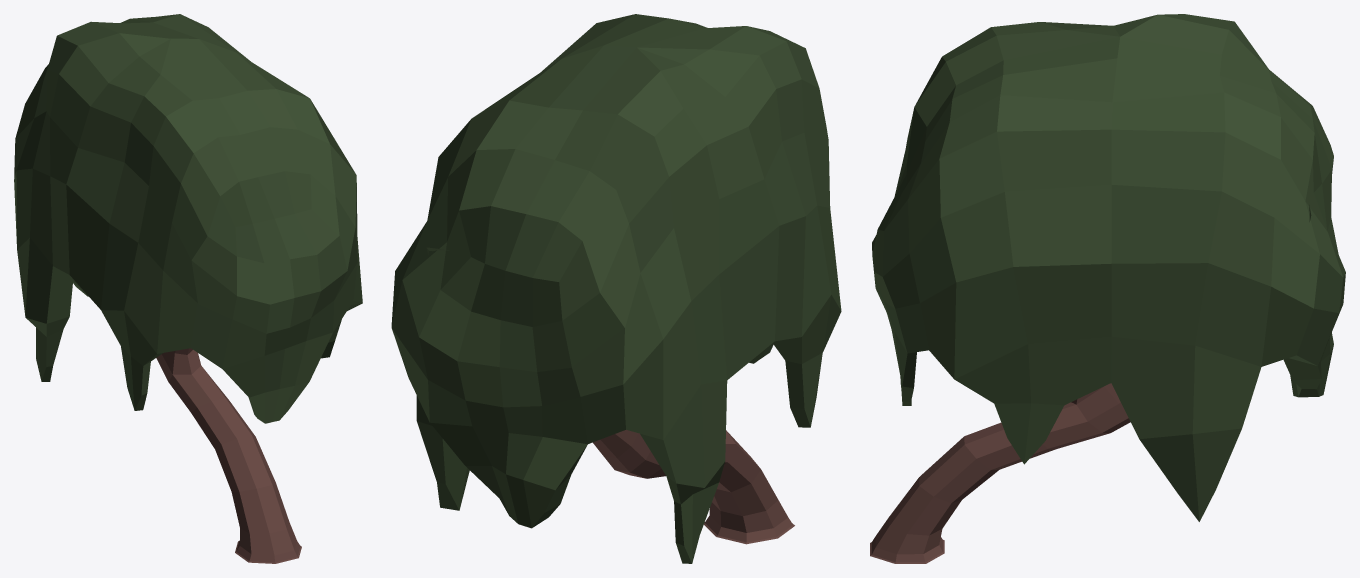
File: Willow_3.gltf
3 views of the same model, side by side, from view 1: azimuth 30°, elevation 25°; view 2: azimuth 150°, elevation 25°; view 3: azimuth 270°, elevation 25° (orthographic). The views are drawn at different scales.
Visible parts, largest first — view 1: Willow_3; view 2: Willow_3; view 3: Willow_3.
Part boxes in pixels (left/top/right/bottom): Willow_3: left=14, top=14, right=362, bottom=563; Willow_3: left=391, top=14, right=841, bottom=563; Willow_3: left=870, top=14, right=1345, bottom=563.
Bounding box in the file's own units: 1.32 × 2.35 × 1.98.
